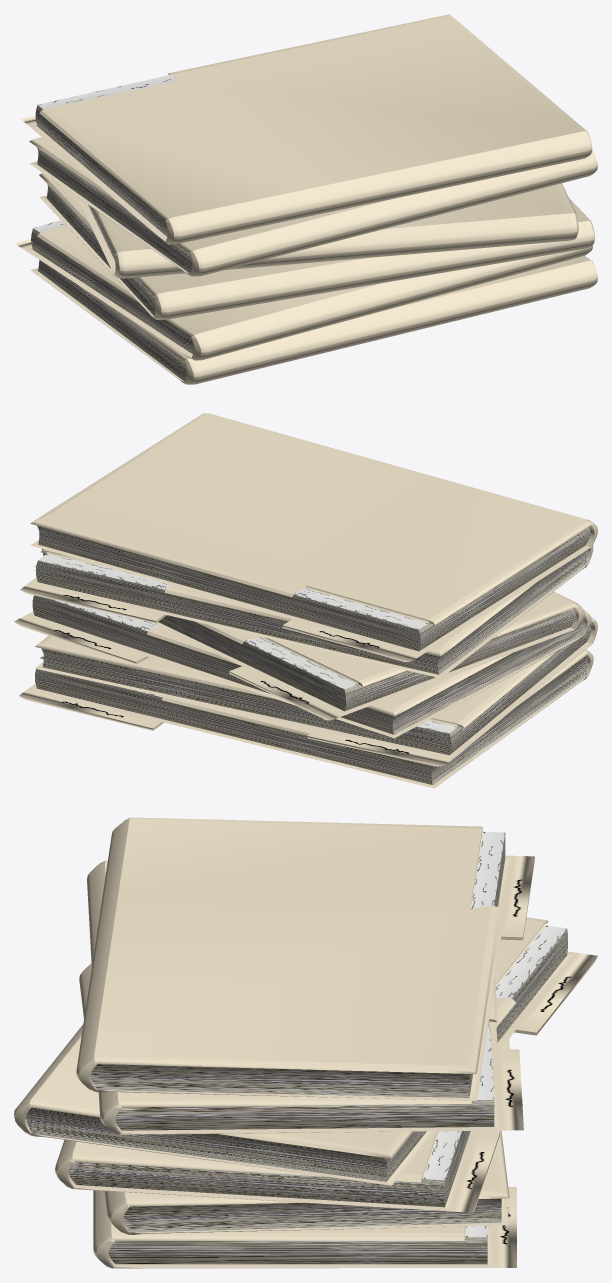
Rendered from AP_FilePile3_CS.fbx.
The picture shows the model from 3 angles, top to bottom: view 1: azimuth 30°, elevation 25°; view 2: azimuth 150°, elevation 25°; view 3: azimuth 270°, elevation 25°; orthographic projection. The views are drawn at different scales.
Visible parts, largest first — view 1: filefolder9, filefolder6, filefolder10, filefolder8, filefolder, filefolder7; view 2: filefolder9, filefolder6, filefolder10, filefolder, filefolder7, filefolder8; view 3: filefolder9, filefolder7, filefolder10, filefolder8, filefolder, filefolder6.
Part boxes in pixels (x1,y1,x2,y2): filefolder9: (21,14,592,244); filefolder6: (14,220,593,360); filefolder10: (29,137,597,276); filefolder8: (39,173,594,319); filefolder: (30,255,597,384); filefolder7: (77,183,578,278); filefolder9: (30,413,597,661); filefolder6: (35,617,597,766); filefolder10: (20,545,593,678); filefolder: (19,650,593,788); filefolder7: (34,549,584,720); filefolder8: (14,595,591,738); filefolder9: (76,817,534,1100); filefolder7: (14,917,597,1185); filefolder10: (87,860,523,1134); filefolder8: (55,1037,510,1212); filefolder: (93,1187,516,1268); filefolder6: (79,963,510,1234).
Size of the model in its own units: 3.83 by 1.27 by 3.3.
Materials: 1 (1 with a texture image).
